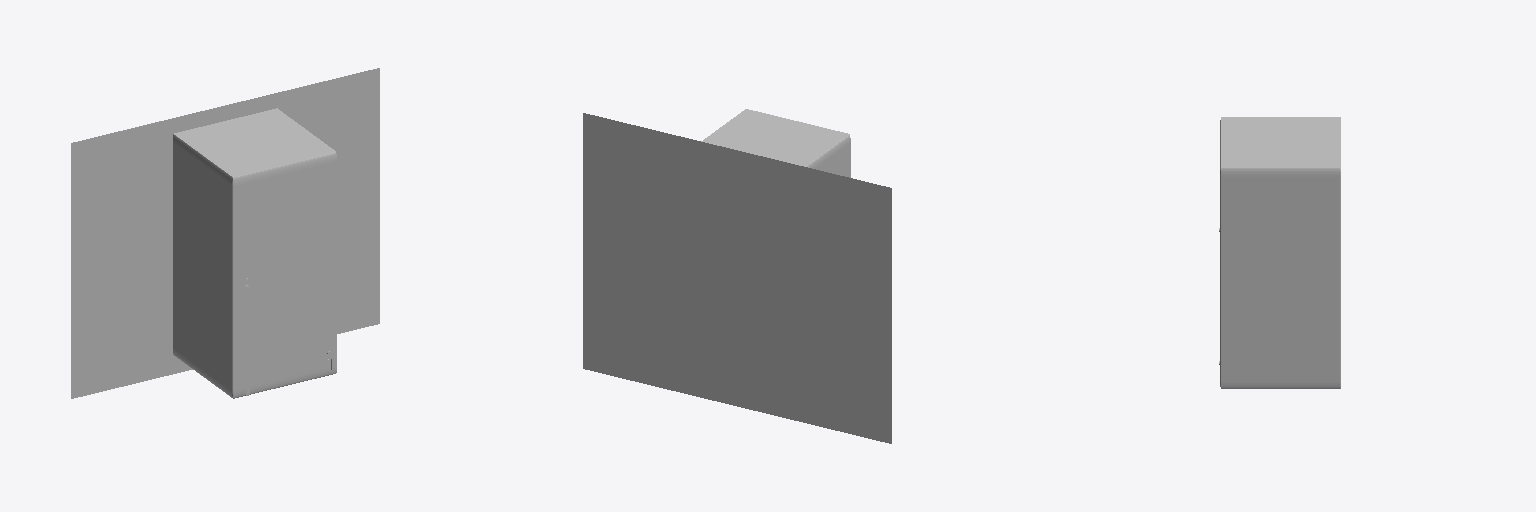
File: Xbox Series X Console.obj
3 renders of one model, left to right at view 1: azimuth 30°, elevation 25°; view 2: azimuth 150°, elevation 25°; view 3: azimuth 270°, elevation 25°, orthographic.
Visible parts, largest first — view 1: 014_2f259a9a-b930-4ba9-b867-3c7871c57ce6, 013_Chasis, 012_Ventilation; view 2: 014_2f259a9a-b930-4ba9-b867-3c7871c57ce6, 012_Ventilation, 013_Chasis; view 3: 013_Chasis, 012_Ventilation.
Boxes of the visible parts, box(x1,y1,x2,y2) form: 014_2f259a9a-b930-4ba9-b867-3c7871c57ce6: box(71, 68, 379, 398); 013_Chasis: box(173, 134, 336, 398); 012_Ventilation: box(174, 108, 335, 177); 014_2f259a9a-b930-4ba9-b867-3c7871c57ce6: box(583, 113, 891, 443); 012_Ventilation: box(701, 109, 849, 166); 013_Chasis: box(806, 135, 850, 177); 013_Chasis: box(1220, 120, 1340, 388); 012_Ventilation: box(1221, 117, 1340, 167).
Bounding box in the file's own units: 1734 × 1376 × 597.